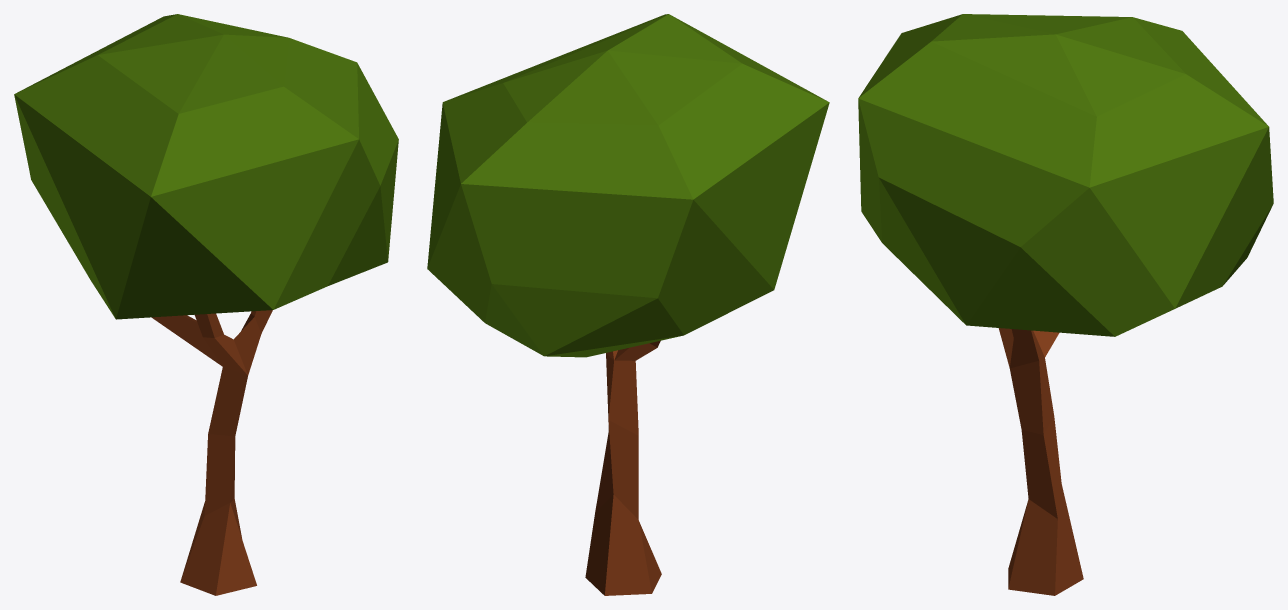
File: tree.fbx
The picture shows the model from 3 angles, left to right: view 1: azimuth 30°, elevation 25°; view 2: azimuth 150°, elevation 25°; view 3: azimuth 270°, elevation 25°; orthographic projection. The views are drawn at different scales.
Parts seen in each view (by area): view 1: Icosphere, Cylinder; view 2: Icosphere, Cylinder; view 3: Icosphere, Cylinder.
Part boxes in pixels (x1,y1,x2,y2): Icosphere: (14,14,398,319); Cylinder: (151,310,272,595); Icosphere: (427,14,829,357); Cylinder: (585,340,661,595); Icosphere: (858,14,1273,336); Cylinder: (998,328,1083,595).
Bounding box in the file's own units: 741 × 1242 × 851.
